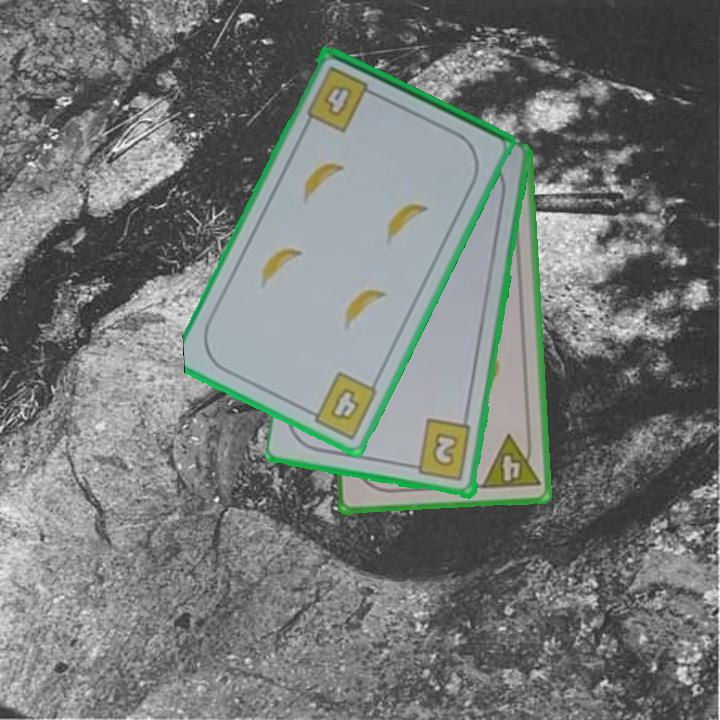2b: (406, 417, 474, 484)
4b: (301, 368, 381, 443), (303, 63, 382, 136)
4p: (477, 431, 542, 492)
